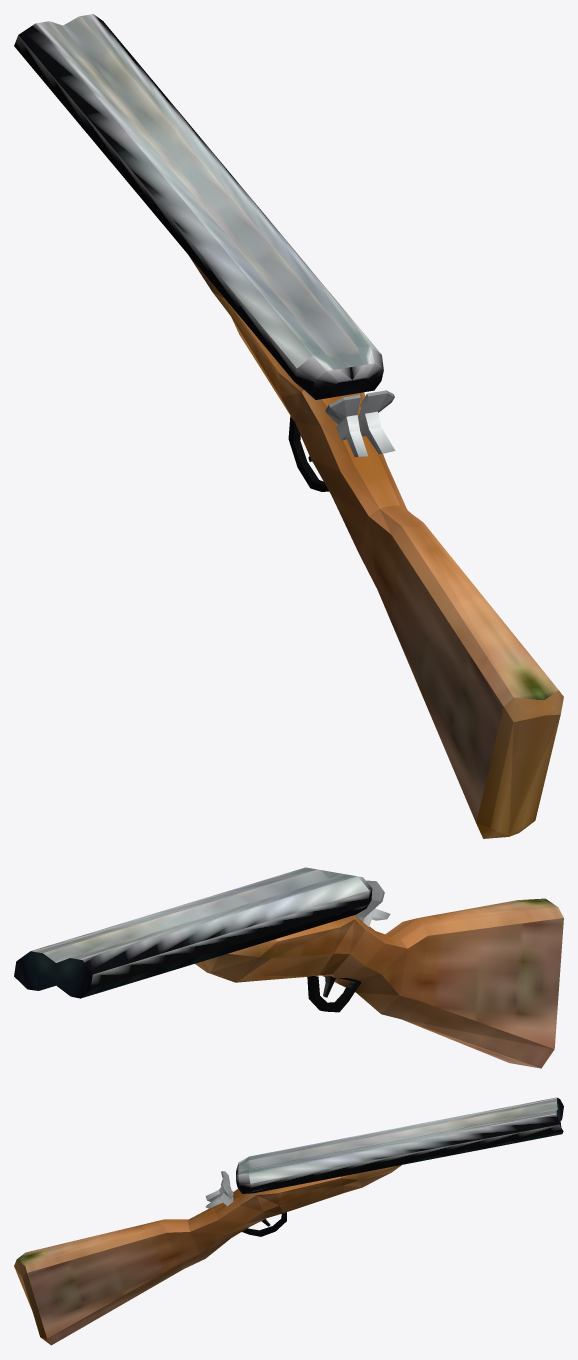
The model's file is shoot0008.obj.
The picture shows the model from 3 angles, top to bottom: view 1: azimuth 30°, elevation 25°; view 2: azimuth 150°, elevation 25°; view 3: azimuth 270°, elevation 25°; orthographic projection. The views are drawn at different scales.
Parts seen in each view (by area): view 1: Cube, Cube.001, Cube.003; view 2: Cube, Cube.001, Cube.002, Cube.003; view 3: Cube, Cube.001, Cube.003, Cube.002.
Boxes of the visible parts, x1,y1,x2,y2 form: Cube: (188,255,563,838); Cube.001: (14,14,383,399); Cube.003: (325,390,395,456); Cube: (195,898,563,1068); Cube.001: (14,867,372,998); Cube.002: (307,976,361,1012); Cube.003: (355,880,390,926); Cube: (14,1165,401,1345); Cube.001: (236,1097,563,1193); Cube.003: (205,1171,233,1208); Cube.002: (242,1212,286,1236).
Bounding box in the file's own units: 0.2644 × 1.07 × 2.17.
1 material, 1 textured.
